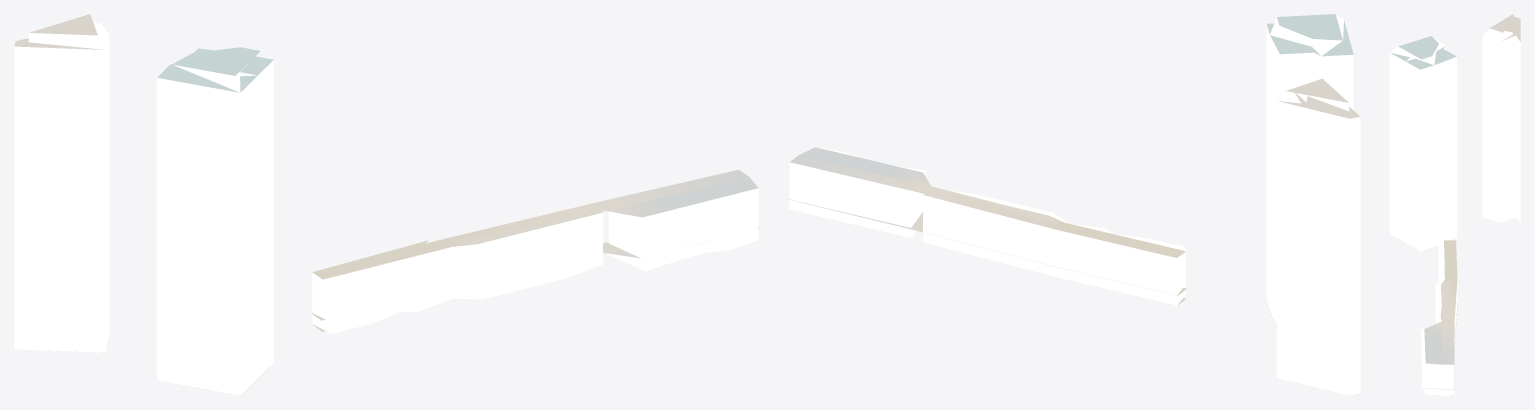
File: buildings-5_4-coarse.glb
3 views of the same model, side by side, from view 1: azimuth 30°, elevation 25°; view 2: azimuth 150°, elevation 25°; view 3: azimuth 270°, elevation 25° (orthographic). The views are drawn at different scales.
Visible parts, largest first — view 1: block_5_4_office, block_5_4_residential, block_5_4_roof; view 2: block_5_4_office, block_5_4_residential, block_5_4_roof; view 3: block_5_4_office, block_5_4_roof, block_5_4_residential.
Part boxes in pixels (x1,y1,x2,y2): block_5_4_office: [14, 22, 273, 395]; block_5_4_residential: [312, 188, 758, 333]; block_5_4_roof: [14, 14, 759, 395]; block_5_4_office: [1266, 14, 1360, 395]; block_5_4_residential: [789, 147, 1185, 305]; block_5_4_roof: [788, 14, 1359, 395]; block_5_4_office: [1389, 28, 1520, 251]; block_5_4_roof: [1390, 14, 1520, 395]; block_5_4_residential: [1421, 241, 1457, 395].
Bounding box in the file's own units: 168 × 74.33 × 46.96.
